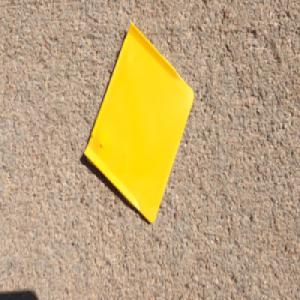PlasticPart: (82, 18, 195, 225)
